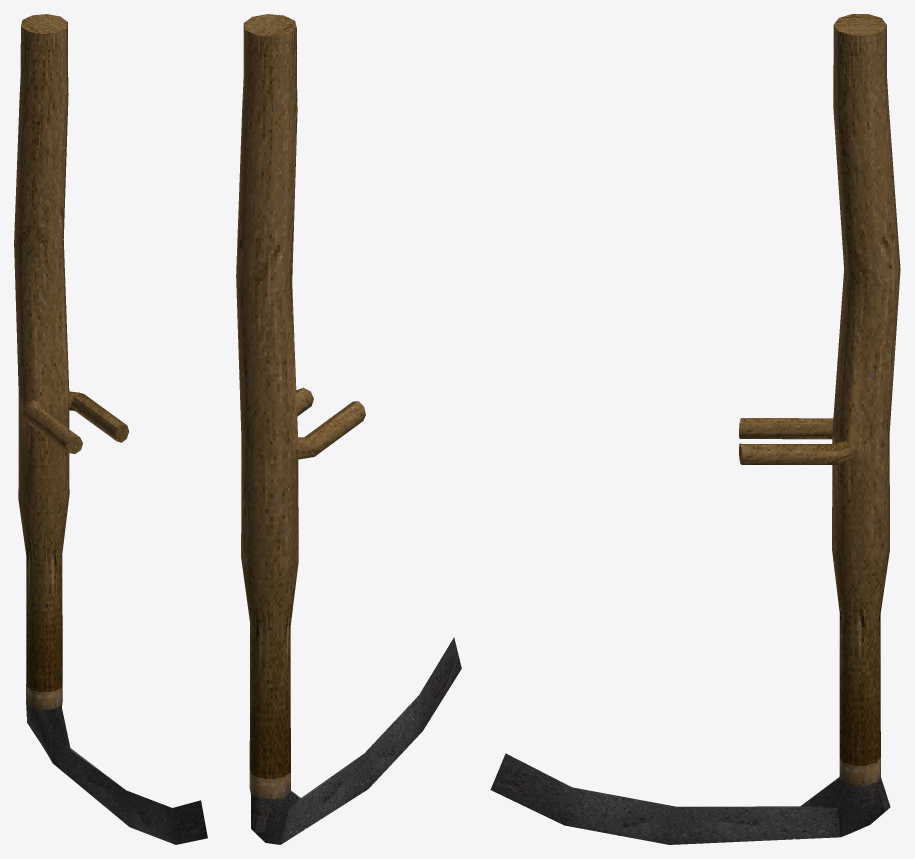
The model's file is retro_scythe.glb.
The picture shows the model from 3 angles, left to right: view 1: azimuth 30°, elevation 25°; view 2: azimuth 150°, elevation 25°; view 3: azimuth 270°, elevation 25°; orthographic projection. The views are drawn at different scales.
Visible parts, largest first — view 1: Cylinder; view 2: Cylinder; view 3: Cylinder.
Part boxes in pixels (x1=…): Cylinder: x1=14, y1=14, x2=207, y2=844; Cylinder: x1=236, y1=14, x2=461, y2=844; Cylinder: x1=490, y1=14, x2=900, y2=844.
Size of the model in its own units: 0.1345 by 1.5 by 0.6793.
Materials: 1 (1 with a texture image).
